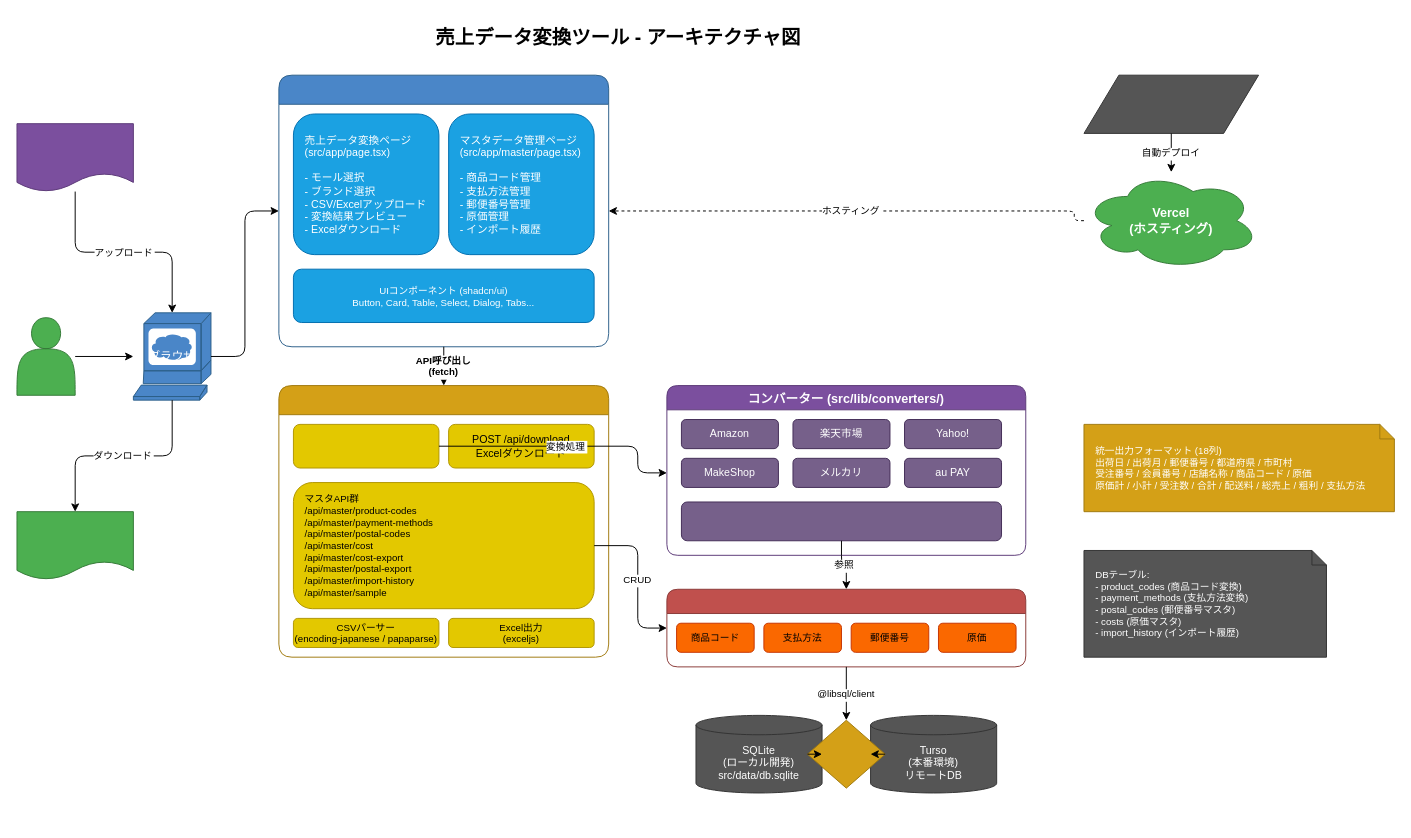
Image size: 1411x838. Some labels were removed from this diagram. Each missing label, with the box of its shape:
db.ts (環境で自動切替): (807, 719, 885, 788)
GitHub yasoo-m/my-first-app: (1083, 74, 1259, 133)
helpers.ts (共通変換ロジック: 商品コード変換, 原価取得, 郵便番号検索, 支払方法変換): (680, 501, 1002, 541)
POST /api/convert CSV/Excel変換API: (292, 423, 439, 468)
バックエンド (Next.js API Routes): (278, 385, 609, 657)
フロントエンド (React / Next.js): (278, 74, 609, 347)
マスタデータ層 (src/lib/masters/): (666, 588, 1026, 667)
ユーザー: (16, 317, 75, 395)
入力ファイル CSV / Excel (各モール形式): (16, 123, 133, 192)
出力ファイル 統一フォーマット Excel (.xlsx): (16, 511, 133, 580)
